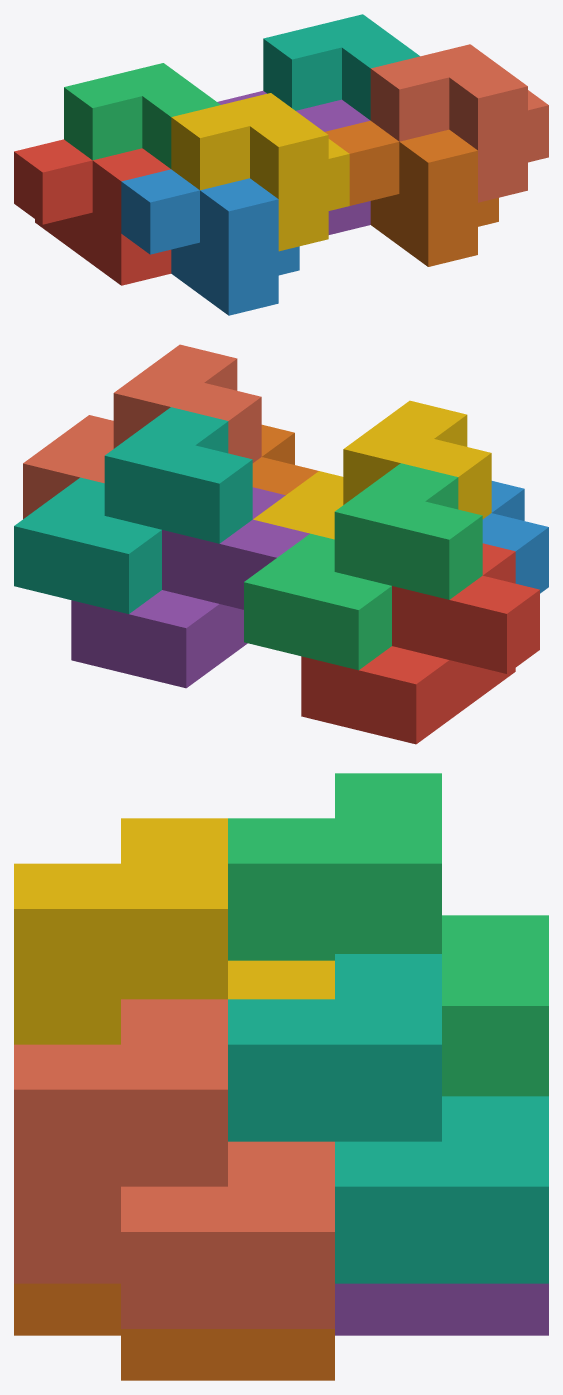
File: tiling.obj
The picture shows the model from 3 angles, top to bottom: view 1: azimuth 30°, elevation 25°; view 2: azimuth 150°, elevation 25°; view 3: azimuth 270°, elevation 25°; orthographic projection. The views are drawn at different scales.
Visible parts, largest first — view 1: copy_1_domain_2, copy_1_domain_4, copy_1_domain_8, copy_1_domain_6, copy_1_domain_1, copy_1_domain_3, copy_1_domain_7, copy_1_domain_5; view 2: copy_1_domain_3, copy_1_domain_7, copy_1_domain_1, copy_1_domain_5, copy_1_domain_8, copy_1_domain_4, copy_1_domain_2, copy_1_domain_6; view 3: copy_1_domain_8, copy_1_domain_7, copy_1_domain_3, copy_1_domain_4, copy_1_domain_6, copy_1_domain_5.
Boxes of the visible parts, x1=… form: copy_1_domain_2: x1=121, y1=169, x2=299, y2=315; copy_1_domain_4: x1=171, y1=93, x2=349, y2=251; copy_1_domain_8: x1=370, y1=44, x2=548, y2=202; copy_1_domain_6: x1=325, y1=120, x2=498, y2=266; copy_1_domain_1: x1=14, y1=139, x2=171, y2=285; copy_1_domain_3: x1=64, y1=63, x2=220, y2=168; copy_1_domain_7: x1=263, y1=14, x2=419, y2=120; copy_1_domain_5: x1=217, y1=91, x2=370, y2=234; copy_1_domain_3: x1=244, y1=463, x2=482, y2=670; copy_1_domain_7: x1=14, y1=407, x2=252, y2=613; copy_1_domain_1: x1=301, y1=543, x2=539, y2=744; copy_1_domain_5: x1=71, y1=487, x2=309, y2=688; copy_1_domain_8: x1=23, y1=344, x2=261, y2=518; copy_1_domain_4: x1=253, y1=400, x2=491, y2=539; copy_1_domain_2: x1=482, y1=481, x2=548, y2=593; copy_1_domain_6: x1=252, y1=424, x2=318, y2=494; copy_1_domain_8: x1=14, y1=999, x2=334, y2=1328; copy_1_domain_7: x1=228, y1=954, x2=548, y2=1283; copy_1_domain_3: x1=228, y1=773, x2=548, y2=1096; copy_1_domain_4: x1=14, y1=818, x2=334, y2=1044; copy_1_domain_6: x1=14, y1=1283, x2=334, y2=1380; copy_1_domain_5: x1=335, y1=1283, x2=548, y2=1335.
Size of the model in its own units: 9 by 3 by 5.
